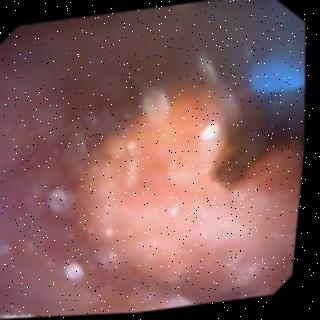fiber: (252, 51, 304, 96)
stone: (82, 84, 302, 299)
